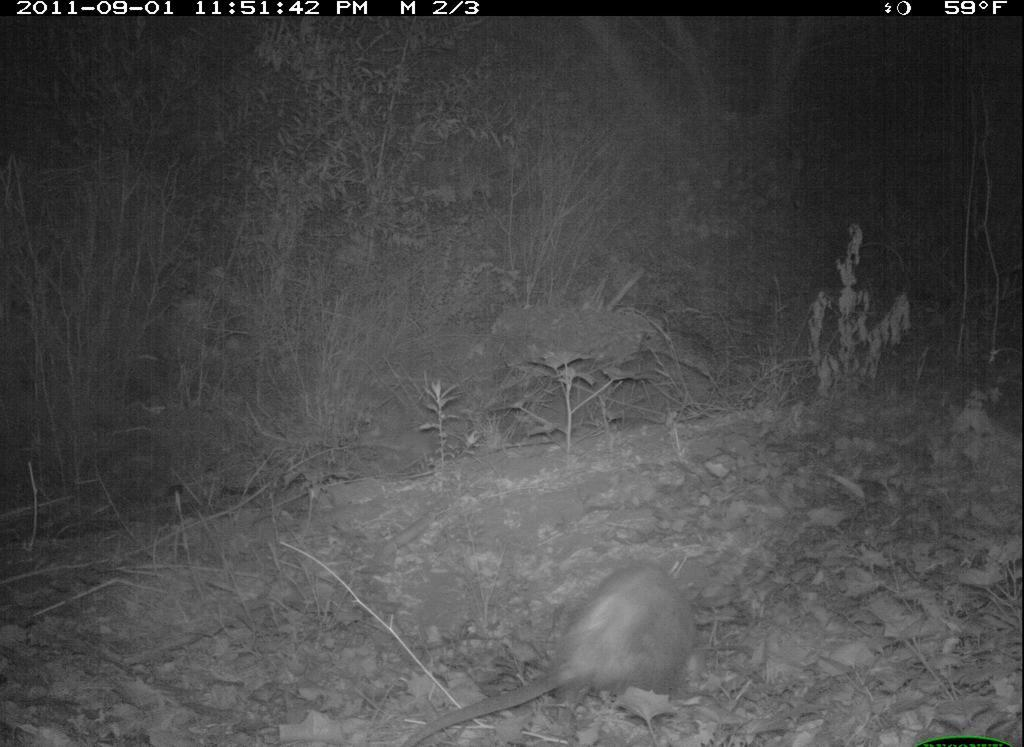opossum: (406, 556, 724, 747)
